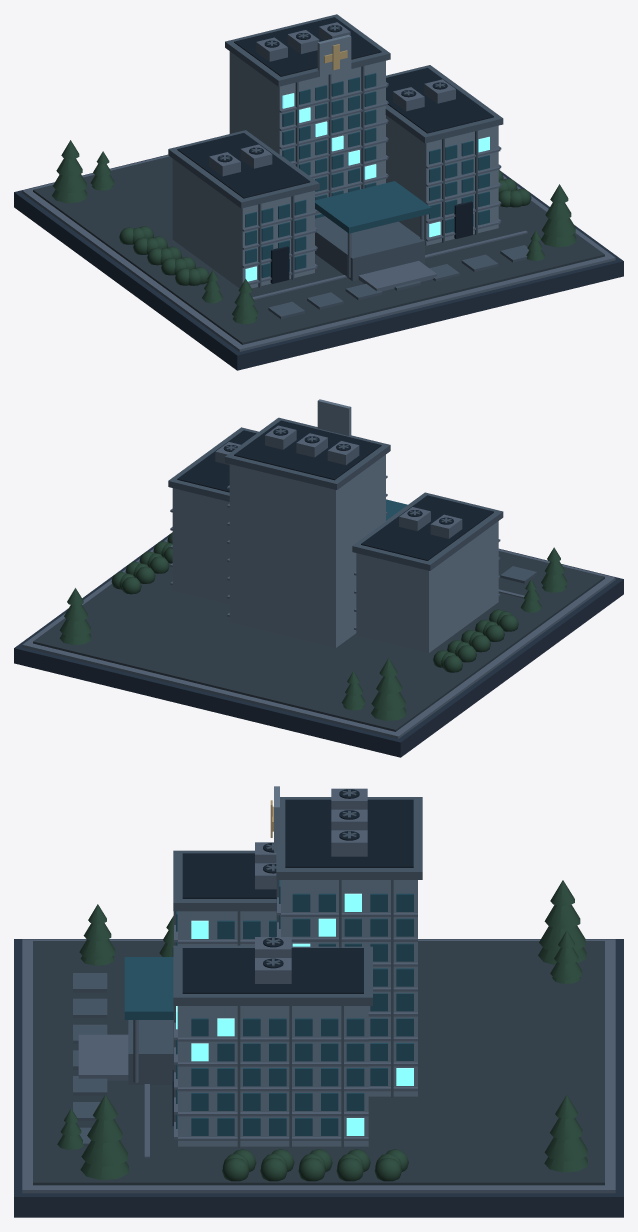
Rendered from district-public-health.glb.
3 views of the same model, one above another, from view 1: azimuth 30°, elevation 25°; view 2: azimuth 150°, elevation 25°; view 3: azimuth 270°, elevation 25° (orthographic). The views are drawn at different scales.
Parts seen in each view (by area): view 1: district-public-health, building (×3); view 2: district-public-health, building (×3); view 3: district-public-health, building (×3).
Part boxes in pixels (x1,y1,x2,y2): district-public-health: [14, 34, 623, 370]; building (×3): [168, 14, 503, 288]; district-public-health: [14, 399, 623, 757]; building (×3): [168, 417, 503, 652]; district-public-health: [14, 786, 623, 1217]; building (×3): [172, 788, 422, 1148].
Size of the model in its own units: 8 by 4.22 by 8.
